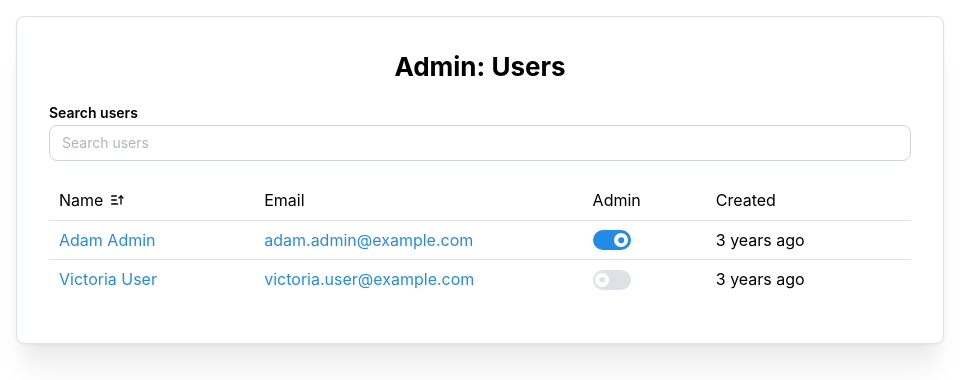
Test: AdminUserList › filters users by email address
In the field with placeholder "Search users": {"x": 480, "y": 143} [49,125,911,161], type "adam.admin"
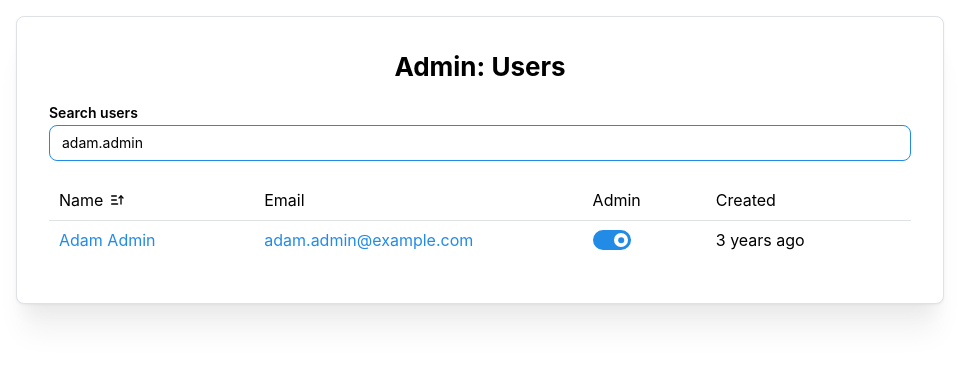
Expected: the link "Adam Admin" is shown, [59,230,156,250]
Result: the link "Victoria User" is gone
